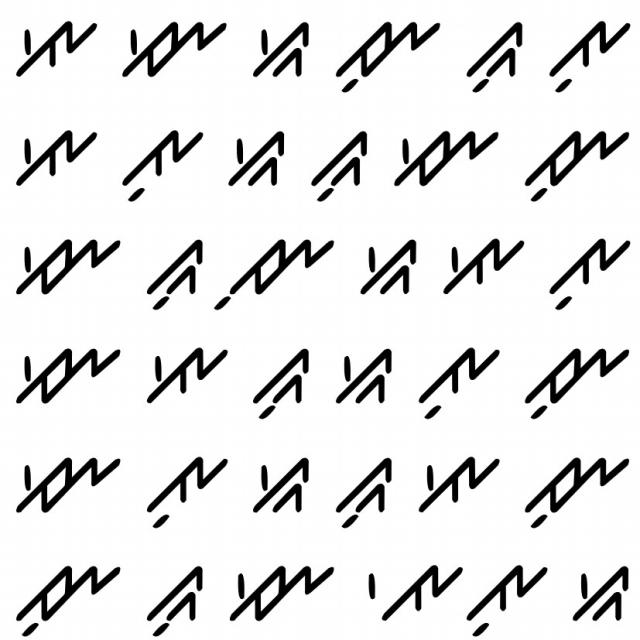e: (353, 552, 462, 624), (11, 115, 103, 198), (409, 445, 501, 521), (436, 222, 526, 298), (141, 338, 232, 406), (13, 15, 102, 79)
ngge: (556, 550, 631, 626), (350, 230, 425, 301), (222, 124, 293, 196), (247, 449, 315, 520), (326, 340, 395, 406), (244, 20, 314, 80)
nggu: (135, 544, 205, 638), (297, 118, 371, 205), (248, 344, 314, 427), (137, 235, 210, 310), (334, 452, 396, 538), (462, 15, 526, 96)
nje: (224, 550, 339, 634), (377, 119, 499, 194), (8, 439, 122, 518), (115, 11, 231, 85), (11, 336, 125, 411), (3, 230, 125, 300)
nju: (515, 336, 631, 424), (331, 11, 444, 100), (214, 236, 337, 317), (519, 117, 631, 205), (9, 561, 126, 639), (515, 452, 633, 529)
u: (117, 120, 207, 208), (140, 450, 230, 535), (408, 340, 499, 421), (468, 557, 554, 639), (544, 238, 632, 314), (549, 15, 632, 94)
